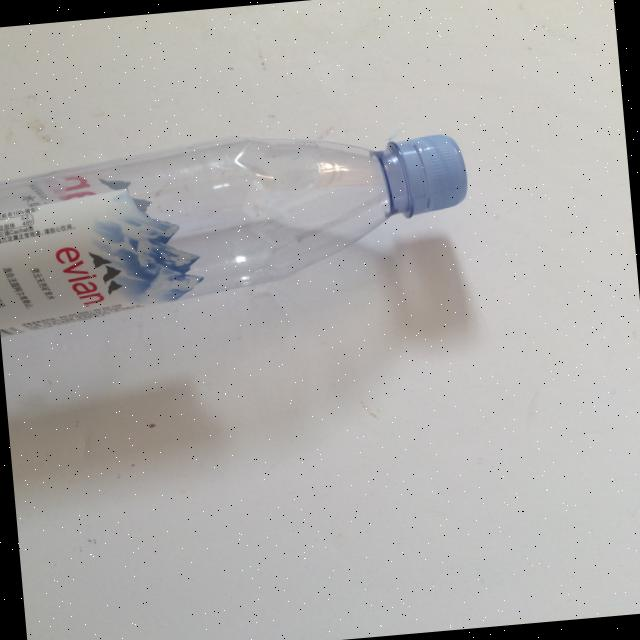plastic: (0, 114, 477, 335)
